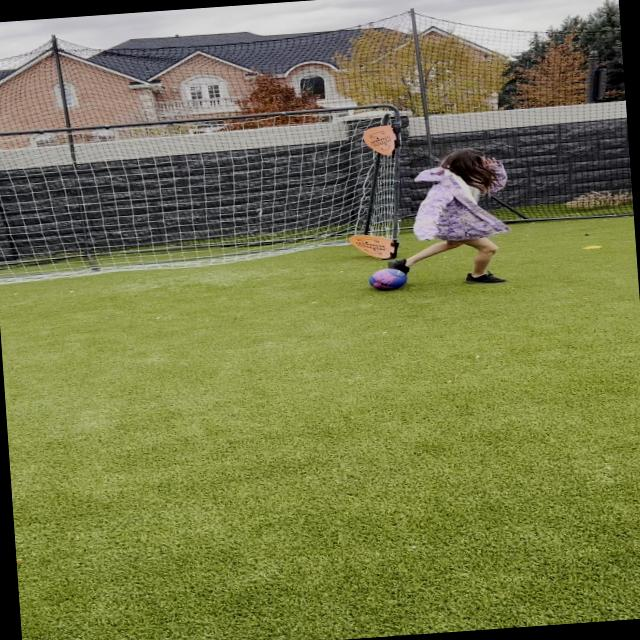Soccer Ball: (366, 266, 408, 292)
